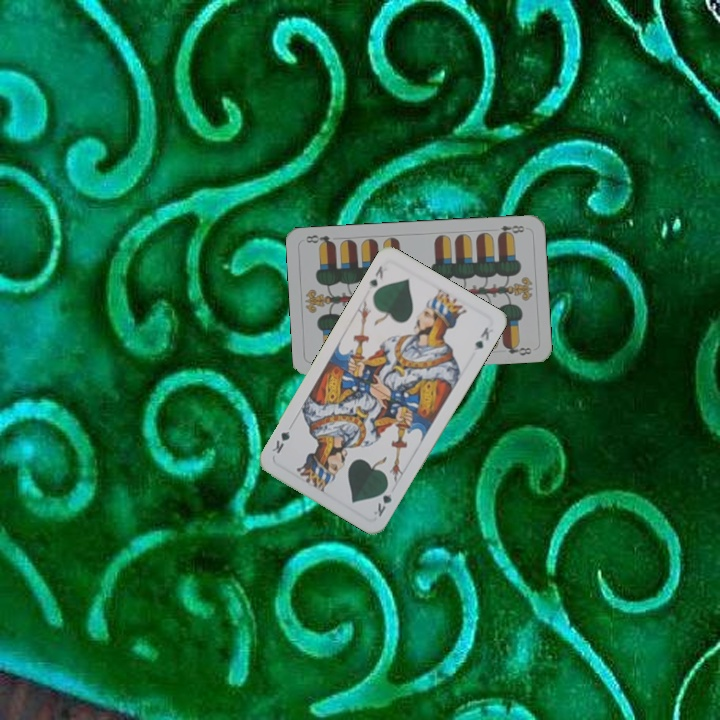E8: (494, 221, 529, 239)
GK: (369, 481, 394, 520), (364, 261, 386, 293)
